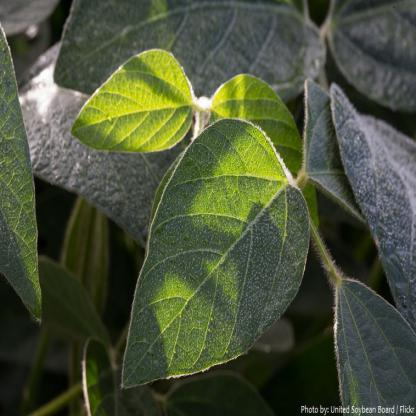Soyabean leaf: (115, 115, 311, 396), (70, 47, 198, 158), (208, 63, 307, 202)
